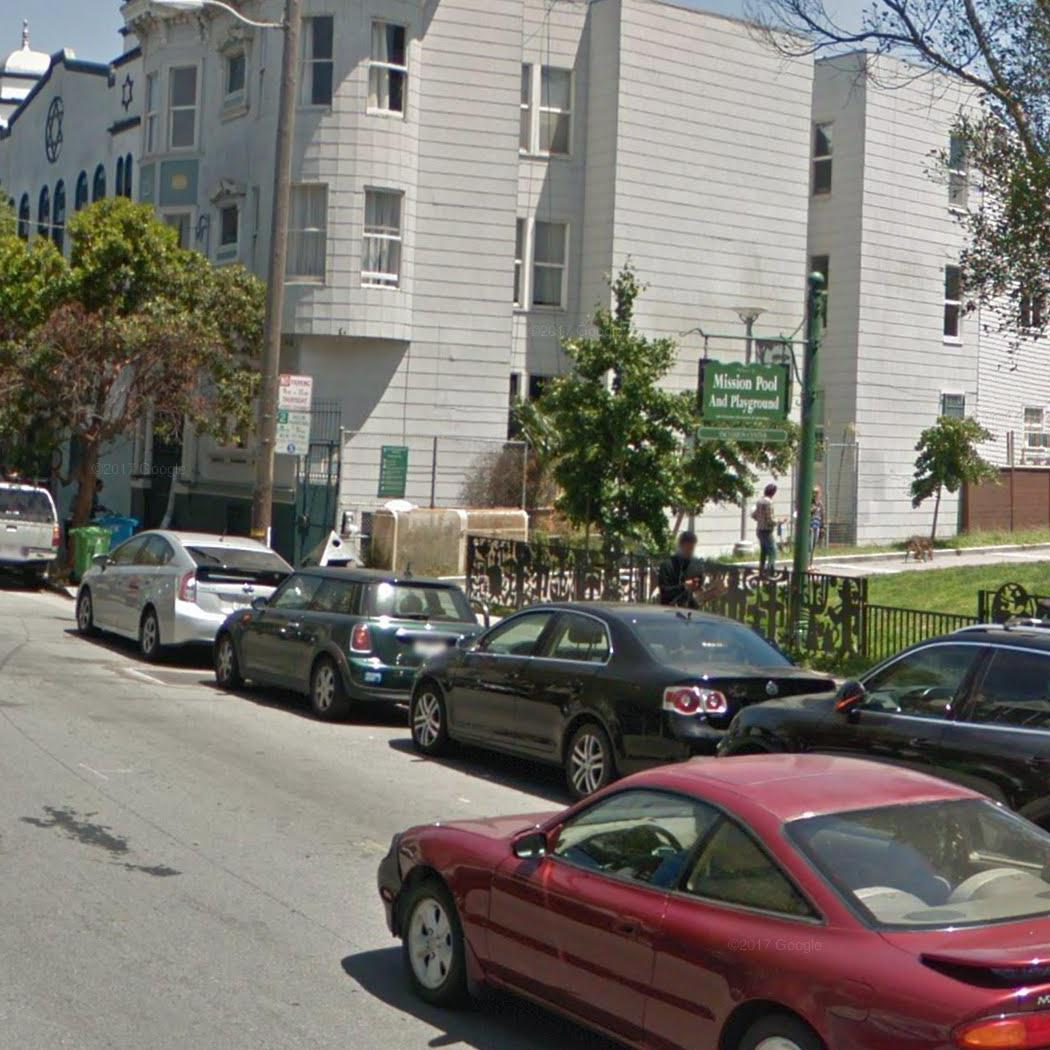2 Hour Parking: (273, 410, 312, 456)
No Parking: (277, 373, 313, 411)
